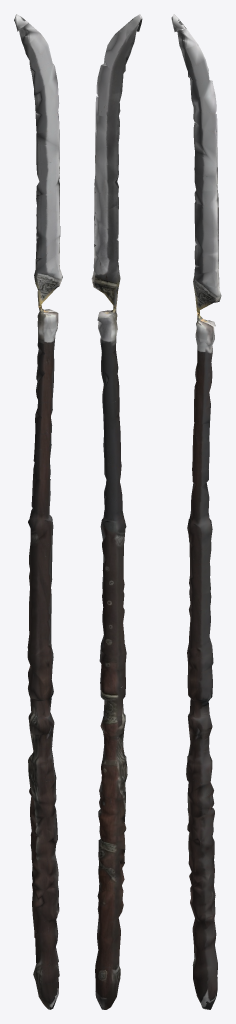
Rendered from 1598_spear.glb.
3 renders of one model, left to right at view 1: azimuth 30°, elevation 25°; view 2: azimuth 150°, elevation 25°; view 3: azimuth 330°, elevation 25°, orthographic.
Visible parts, largest first — view 1: Model; view 2: Model; view 3: Model.
Boxes of the visible parts, left/top/right/bottom form: Model: left=14, top=14, right=62, bottom=1009; Model: left=91, top=14, right=142, bottom=1009; Model: left=171, top=14, right=221, bottom=1009.
Size of the model in its own units: 0.0517 by 1 by 0.0272.
1 material, 1 textured.
